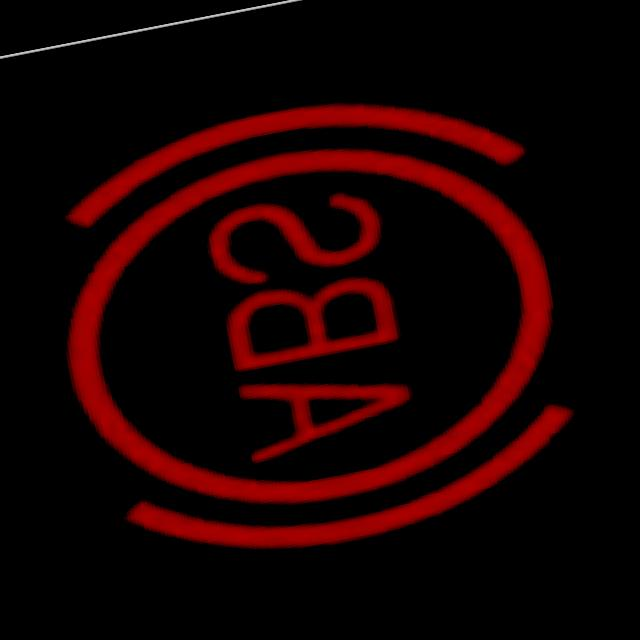kontrolka: (12, 42, 600, 600), (29, 54, 606, 602)
